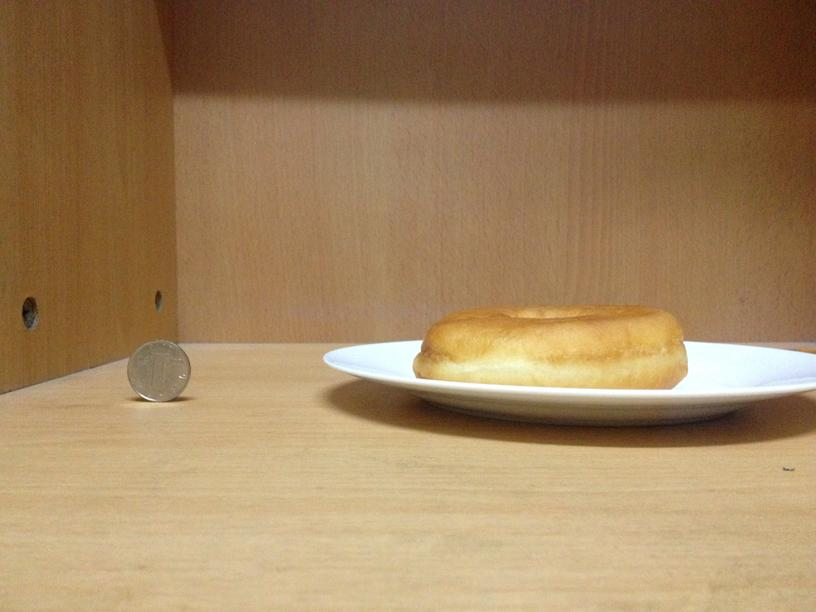coin: (125, 341, 191, 403)
doughnut: (413, 303, 688, 390)
